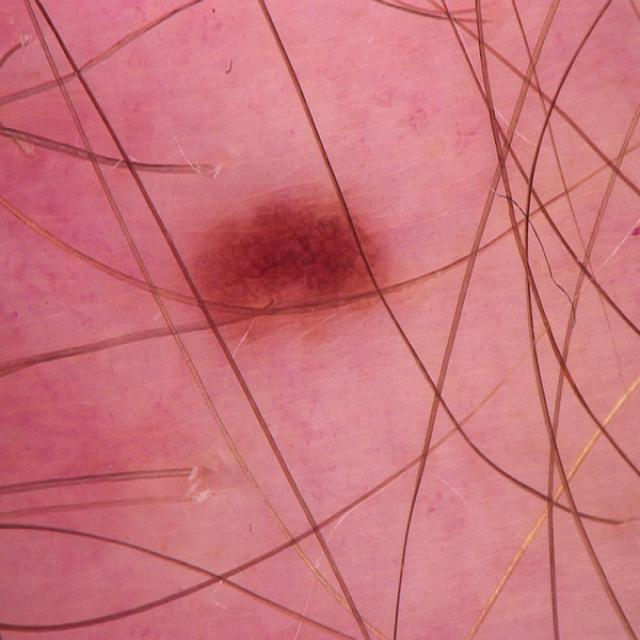NV: (182, 182, 400, 347)
